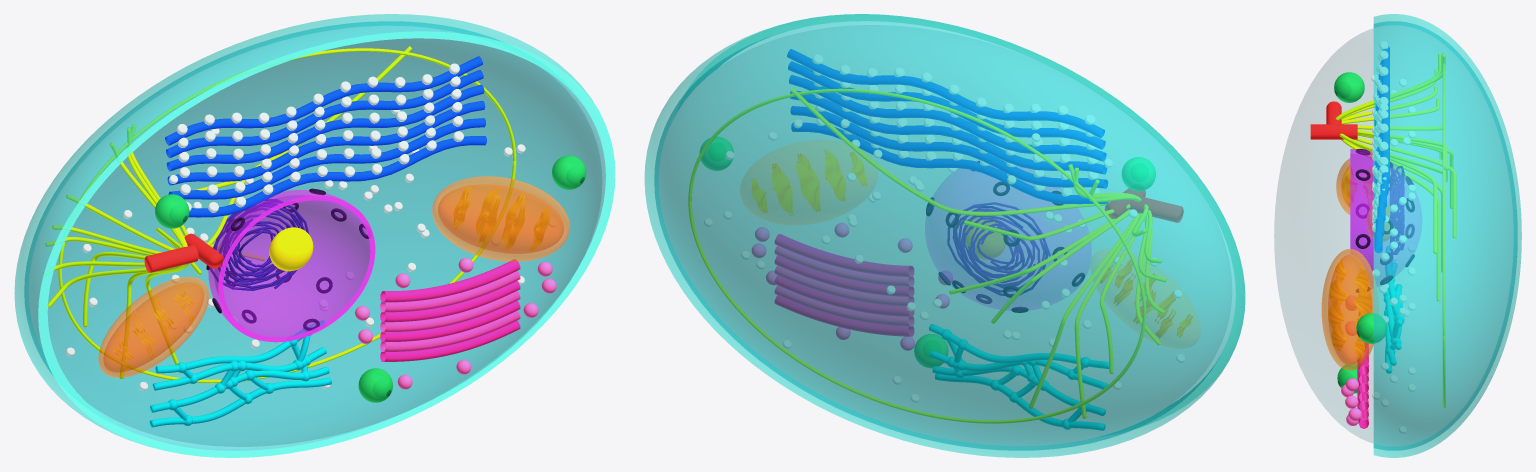
File: animal_cell_cutaway.glb
3 renders of one model, left to right at view 1: azimuth 30°, elevation 25°; view 2: azimuth 150°, elevation 25°; view 3: azimuth 270°, elevation 25°, orthographic. The views are drawn at different scales.
Parts seen in each view (by area): view 1: membrane_outer_leaflet, membrane_inner_leaflet, cytoplasm_body, membrane_lip, nucleus_envelope_inner, nucleus_envelope_outer, mito_outer_1, mito_outer_2, mito_inner_1, mito_inner_2, cytoskeleton_filament_cortex_0, rough_er_cisternae_2 (+26 smaller); view 2: membrane_outer_leaflet, membrane_inner_leaflet, nucleus_envelope_outer, membrane_lip, cytoskeleton_filament_cortex_0, rough_er_cisternae_0, rough_er_cisternae_2, rough_er_cisternae_3, rough_er_cisternae_4, rough_er_cisternae_5, rough_er_cisternae_1, golgi_cisternae_6 (+23 smaller); view 3: membrane_outer_leaflet, membrane_inner_leaflet, cytoplasm_body, nucleus_envelope_outer, mito_outer_1, mito_inner_1, nucleus_envelope_inner, cytoskeleton_filament_cortex_0, lysosome_body_0, lysosome_body_1, centrosome_centrioles_B, rough_er_cisternae_0 (+23 smaller).
Boxes of the visible parts, x1,y1,x2,y2 form: membrane_outer_leaflet: [14, 14, 605, 450]; membrane_inner_leaflet: [24, 21, 605, 450]; cytoplasm_body: [48, 39, 601, 446]; membrane_lip: [38, 31, 615, 457]; nucleus_envelope_inner: [214, 195, 369, 336]; nucleus_envelope_outer: [208, 190, 369, 336]; mito_outer_1: [432, 176, 569, 261]; mito_outer_2: [98, 276, 208, 377]; mito_inner_1: [438, 184, 563, 253]; mito_inner_2: [103, 282, 203, 372]; cytoskeleton_filament_cortex_0: [58, 48, 516, 383]; rough_er_cisternae_2: [166, 84, 484, 171]; membrane_outer_leaflet: [644, 14, 1244, 457]; membrane_inner_leaflet: [654, 21, 1235, 450]; nucleus_envelope_outer: [925, 165, 1090, 310]; membrane_lip: [675, 14, 1245, 436]; cytoskeleton_filament_cortex_0: [688, 89, 1145, 423]; rough_er_cisternae_0: [787, 49, 1104, 137]; rough_er_cisternae_2: [789, 75, 1106, 161]; rough_er_cisternae_3: [790, 91, 1106, 174]; rough_er_cisternae_4: [790, 106, 1107, 188]; rough_er_cisternae_5: [791, 123, 1108, 203]; rough_er_cisternae_1: [788, 61, 1105, 149]; golgi_cisternae_6: [775, 234, 913, 276]; membrane_outer_leaflet: [1373, 14, 1521, 457]; membrane_inner_leaflet: [1374, 21, 1517, 450]; cytoplasm_body: [1274, 29, 1373, 442]; nucleus_envelope_outer: [1350, 149, 1421, 288]; mito_outer_1: [1321, 249, 1373, 370]; mito_inner_1: [1328, 254, 1372, 364]; nucleus_envelope_inner: [1350, 154, 1373, 270]; cytoskeleton_filament_cortex_0: [1443, 63, 1445, 408]; lysosome_body_0: [1334, 72, 1364, 102]; lysosome_body_1: [1356, 313, 1386, 343]; centrosome_centrioles_B: [1310, 124, 1357, 139]; rough_er_cisternae_0: [1382, 46, 1389, 184].
Size of the model in its own units: 7.44 by 4.96 by 3.06.
